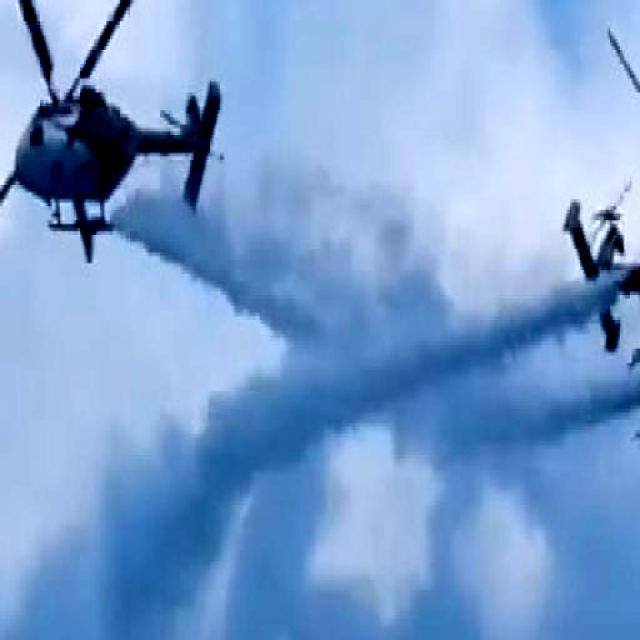drone: (0, 0, 240, 249), (550, 136, 640, 358)
